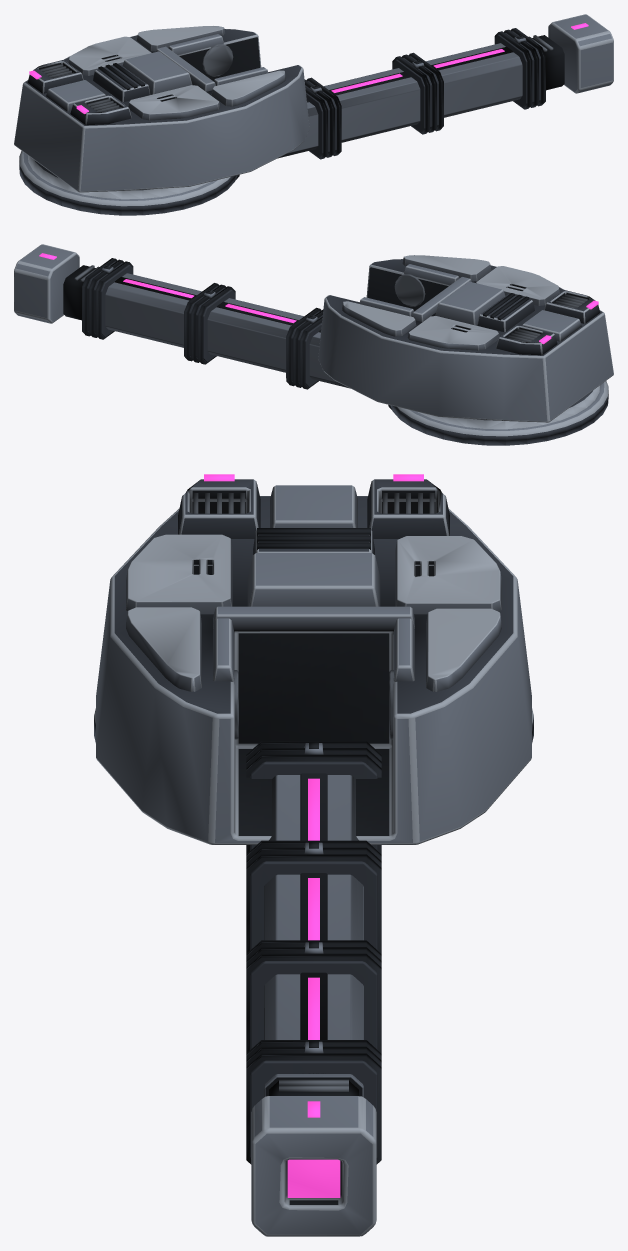
File: lance.glb
3 views of the same model, one above another, from view 1: azimuth 30°, elevation 25°; view 2: azimuth 150°, elevation 25°; view 3: azimuth 270°, elevation 25° (orthographic). The views are drawn at different scales.
Visible parts, largest first — view 1: housing, barrel, ring; view 2: housing, barrel, ring; view 3: housing, barrel.
Boxes of the visible parts, bbox=[...] form: housing: bbox=[14, 26, 309, 192]; barrel: bbox=[236, 14, 613, 179]; ring: bbox=[19, 151, 237, 215]; housing: bbox=[318, 255, 613, 422]; barrel: bbox=[14, 244, 391, 409]; ring: bbox=[390, 381, 608, 445]; housing: bbox=[96, 474, 531, 844]; barrel: bbox=[246, 741, 381, 1236].
Size of the model in its own units: 46.9 by 9.56 by 15.81.
